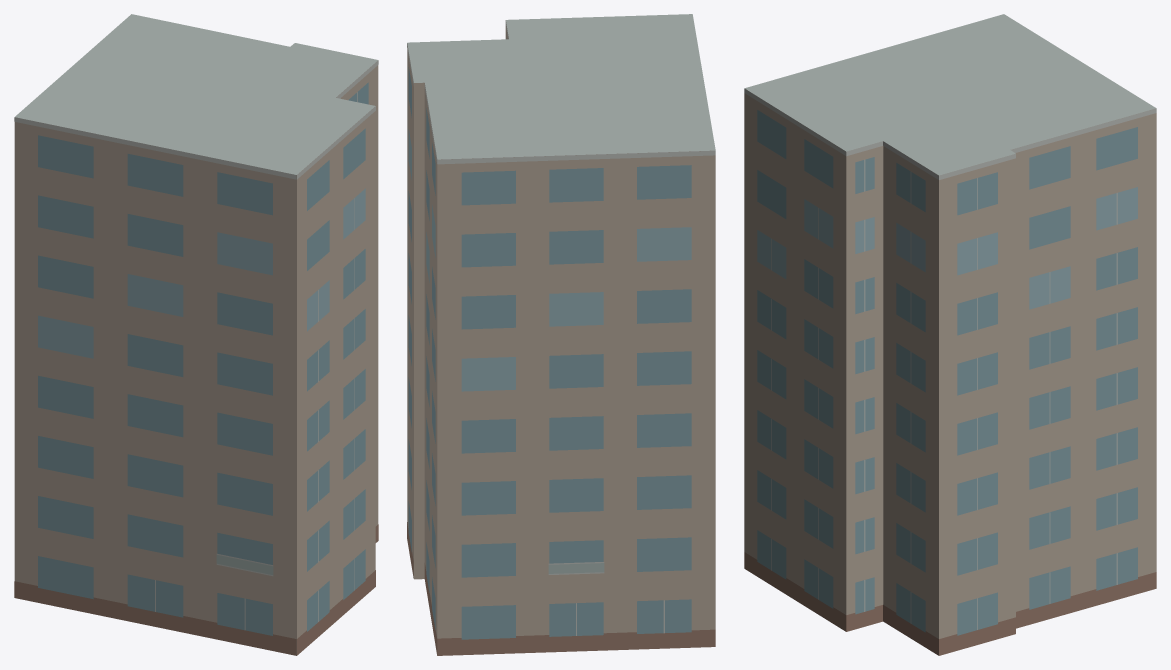
The model's file is survey-upis-32846816.glb.
3 renders of one model, left to right at view 1: azimuth 30°, elevation 25°; view 2: azimuth 150°, elevation 25°; view 3: azimuth 270°, elevation 25°, orthographic. The views are drawn at different scales.
Visible parts, largest first — view 1: survey-upis-32846816.tmp; view 2: survey-upis-32846816.tmp; view 3: survey-upis-32846816.tmp.
Part boxes in pixels (left/top/right/bottom): survey-upis-32846816.tmp: left=14, top=14, right=378, bottom=655; survey-upis-32846816.tmp: left=407, top=14, right=715, bottom=655; survey-upis-32846816.tmp: left=744, top=14, right=1156, bottom=655.
Size of the model in its own units: 18.19 by 25.2 by 19.61.
